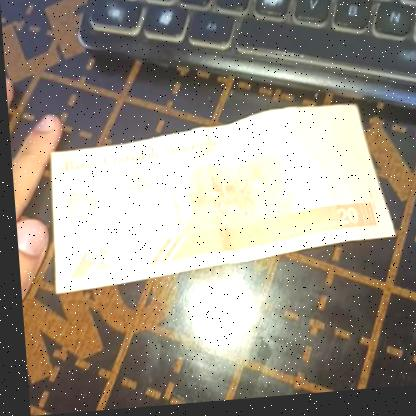vef_back: (43, 104, 396, 294)
